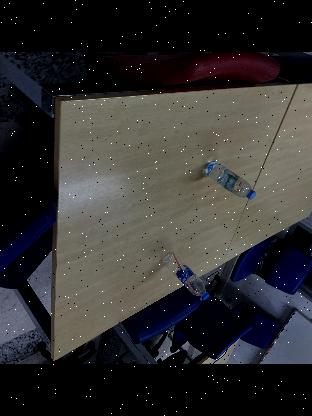Plastic Bottle: (158, 252, 210, 300), (200, 158, 256, 200)
